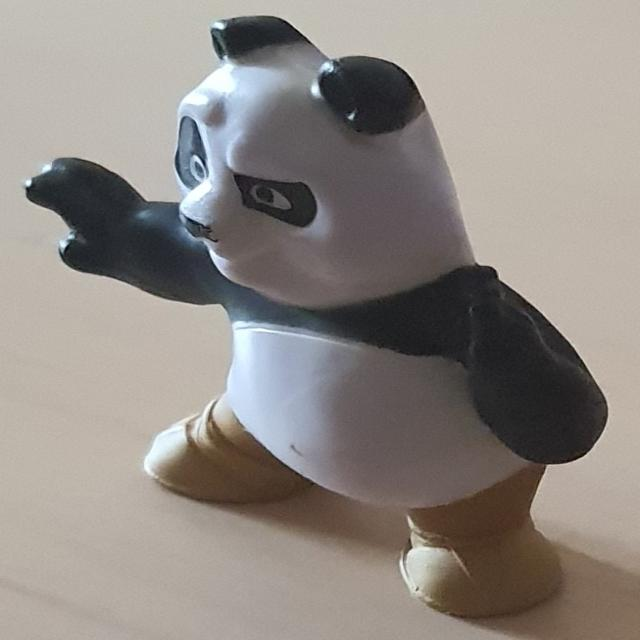Panda: (22, 14, 610, 619)
